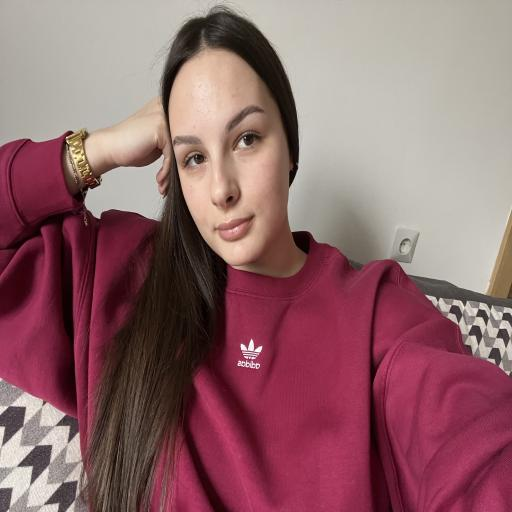marija: (168, 40, 299, 266)
